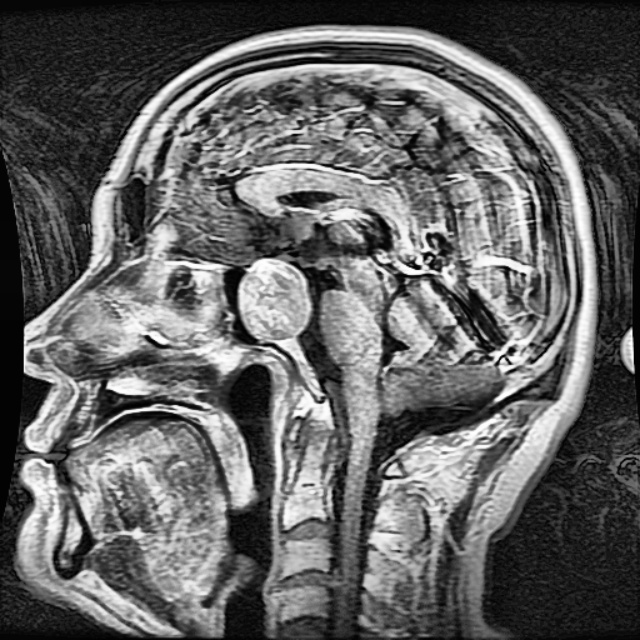Pituitary: (239, 259, 312, 342)
